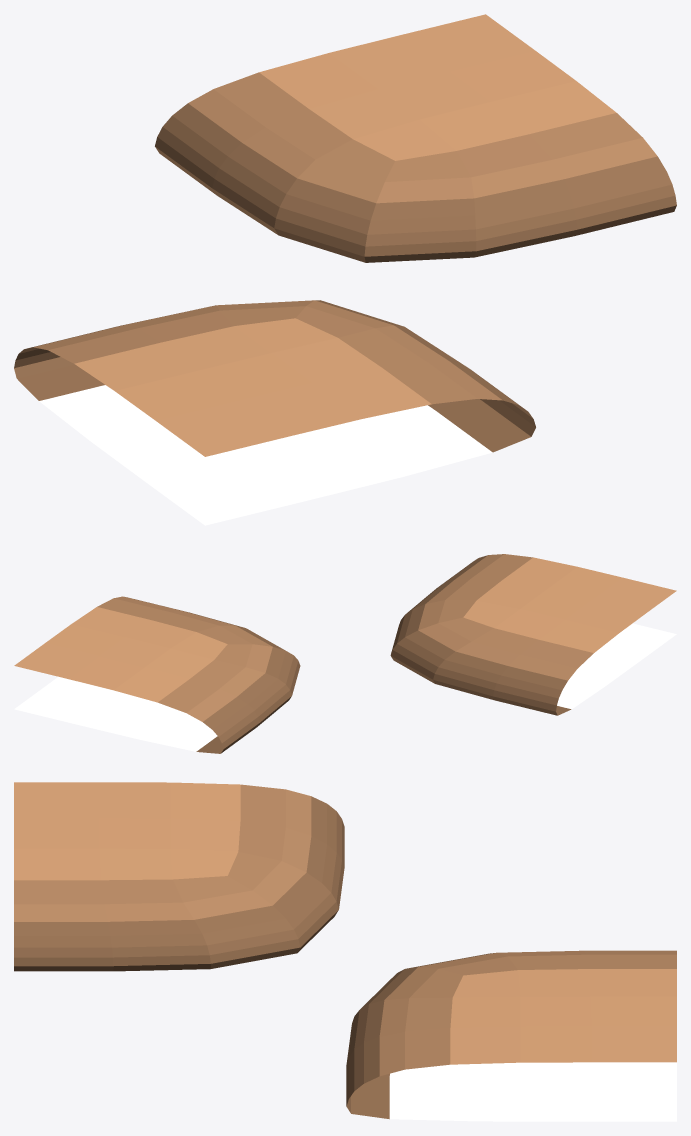
File: soil_tile_1_3.fbx
3 renders of one model, top to bottom at view 1: azimuth 30°, elevation 25°; view 2: azimuth 150°, elevation 25°; view 3: azimuth 270°, elevation 25°, orthographic. The views are drawn at different scales.
Parts seen in each view (by area): view 1: _Corner_1_3; view 2: _Corner_1_3; view 3: _Corner_1_3.
Part boxes in pixels (x1=…): _Corner_1_3: x1=14, y1=14, x2=676, y2=525; _Corner_1_3: x1=14, y1=554, x2=676, y2=753; _Corner_1_3: x1=14, y1=782, x2=676, y2=1121.
Size of the model in its own units: 1 by 1 by 0.0988.
